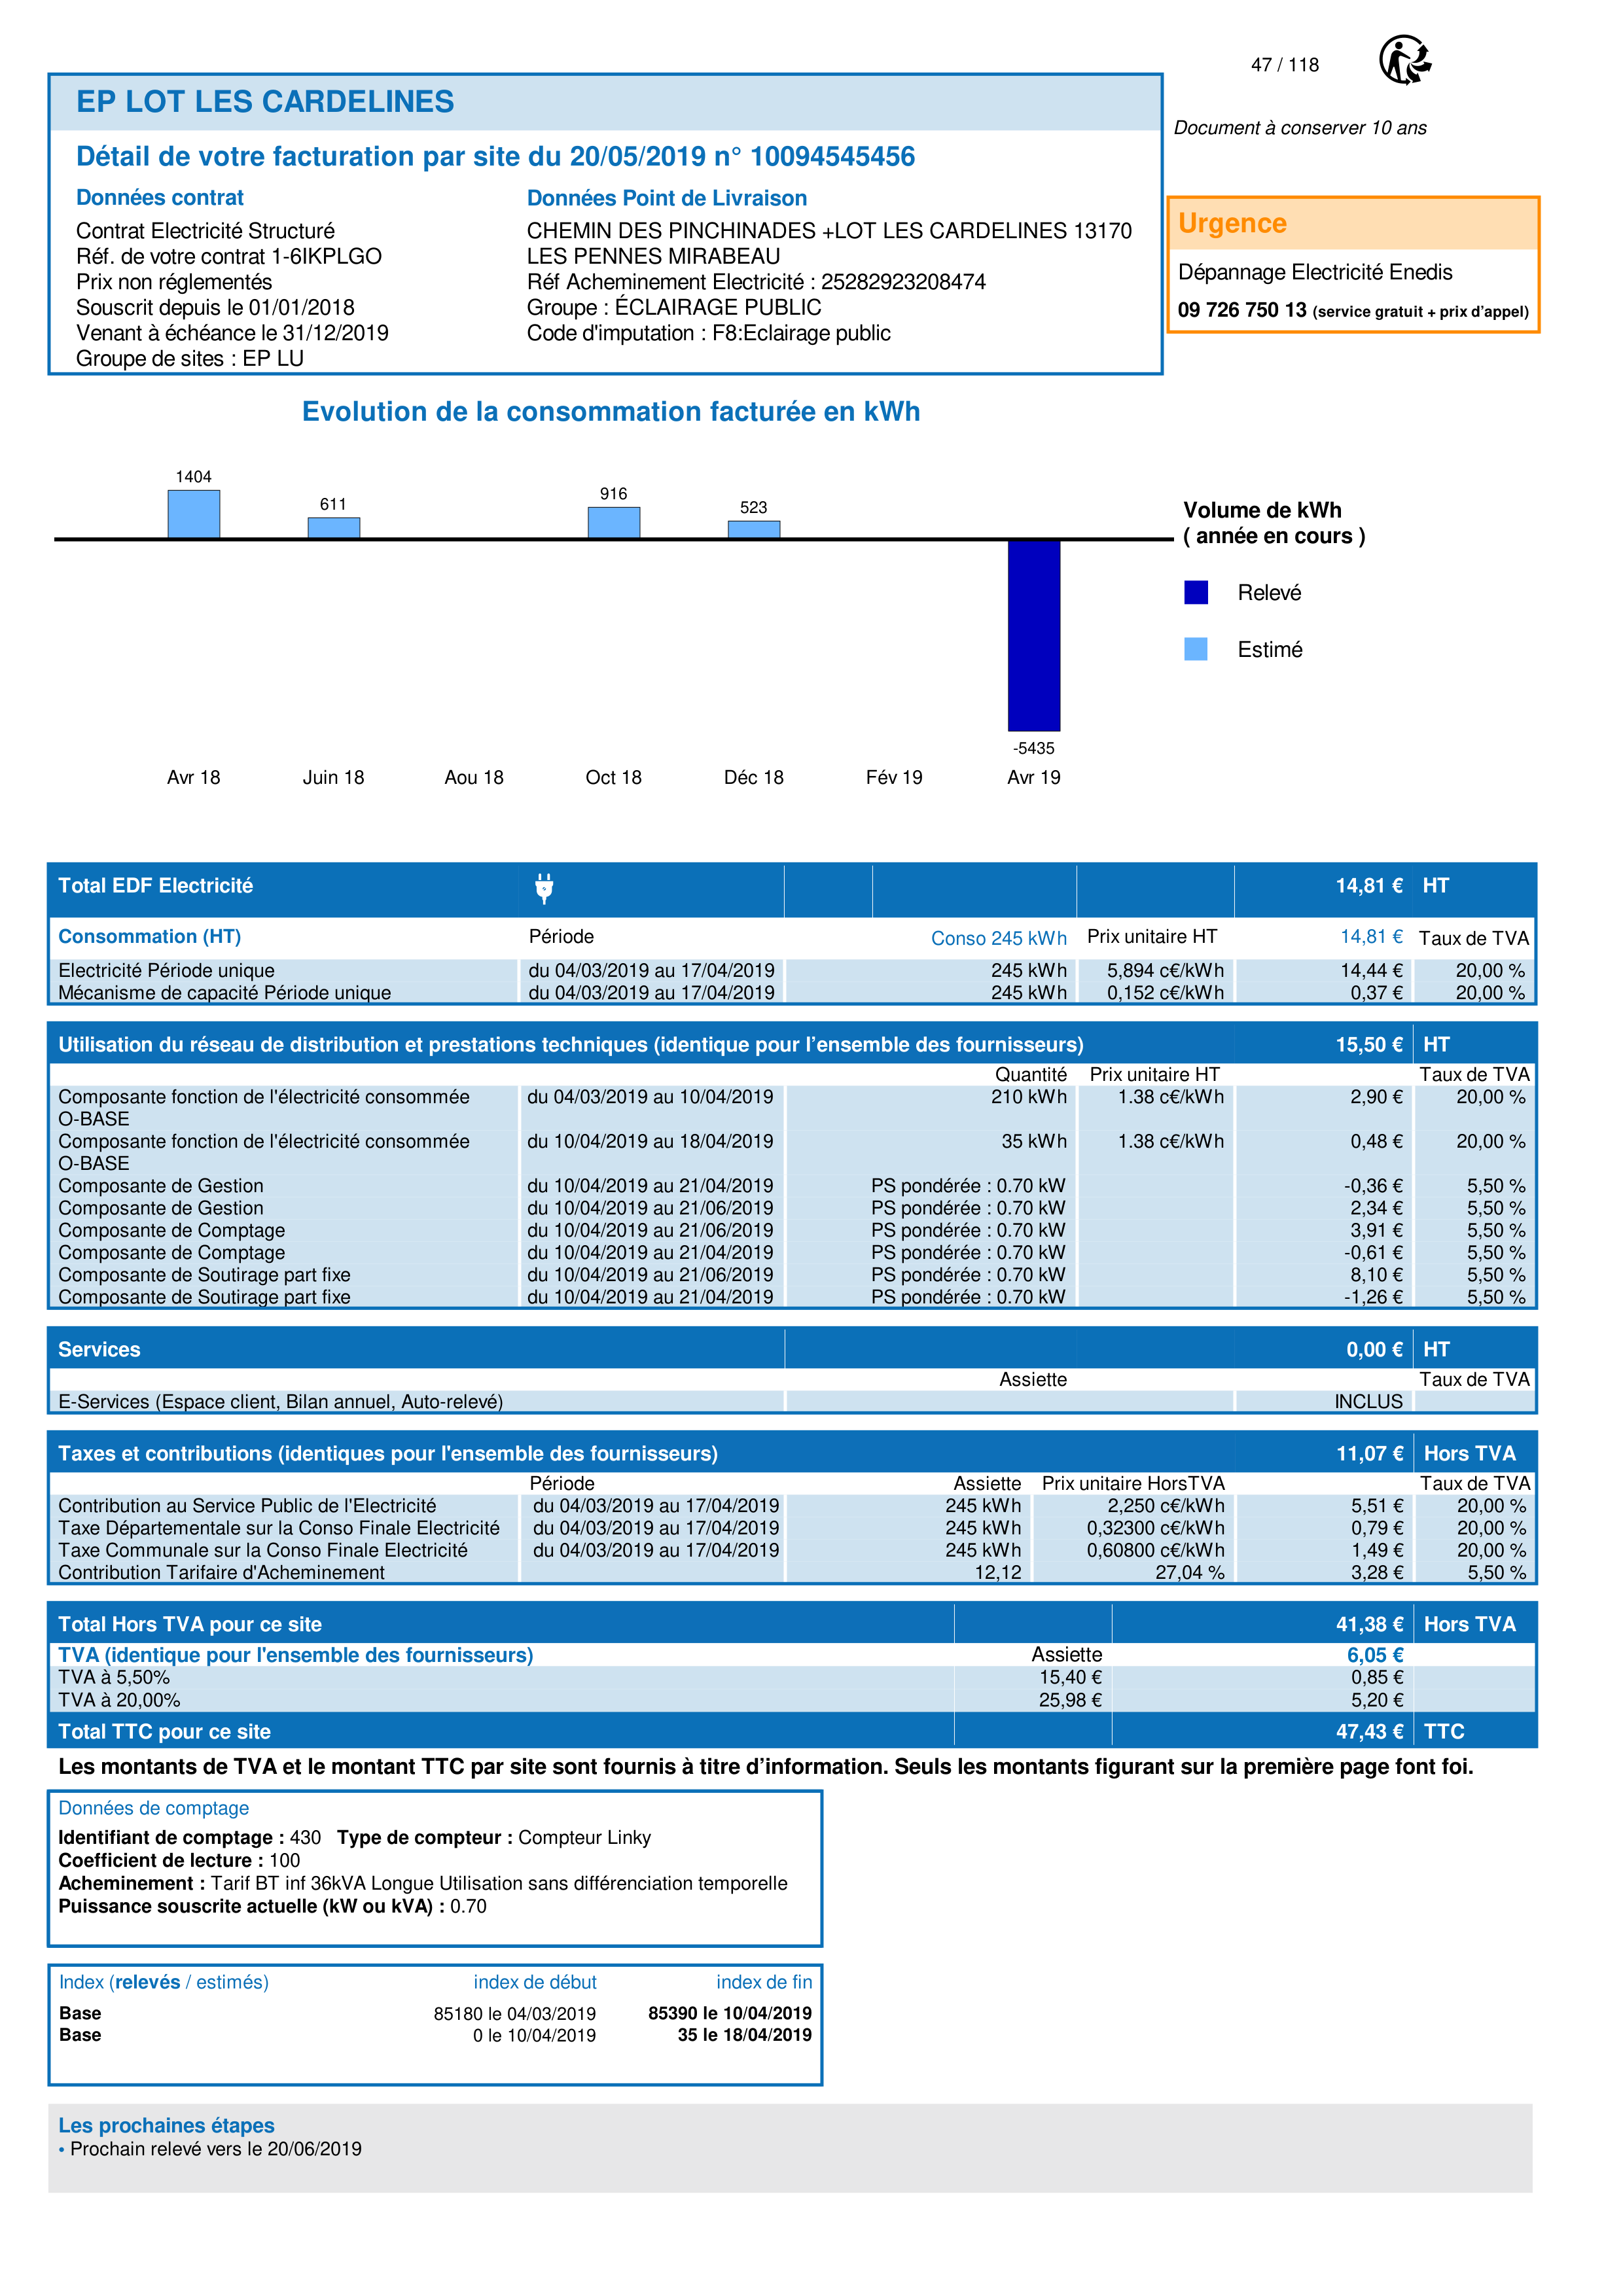area: (48, 1963, 821, 2087)
type_indicator: (48, 1966, 283, 2002)
